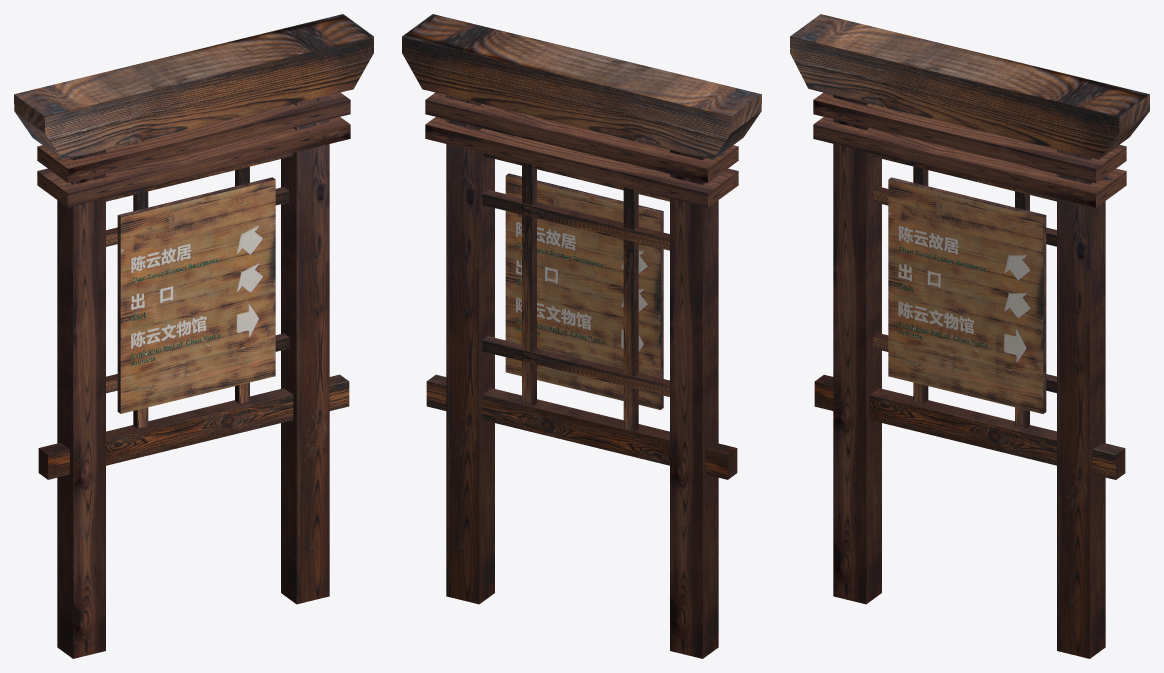
The model's file is Prop_RoadGuide04.FBX.
The picture shows the model from 3 angles, left to right: view 1: azimuth 30°, elevation 25°; view 2: azimuth 150°, elevation 25°; view 3: azimuth 330°, elevation 25°; orthographic projection.
Parts seen in each view (by area): view 1: Prop_RoadGuide04; view 2: Prop_RoadGuide04; view 3: Prop_RoadGuide04.
Boxes of the visible parts, box(x1,y1,x2,y2) form: Prop_RoadGuide04: box(14, 14, 373, 658); Prop_RoadGuide04: box(402, 14, 761, 658); Prop_RoadGuide04: box(790, 14, 1149, 658).
Bounding box in the file's own units: 115 × 18.66 × 186.
